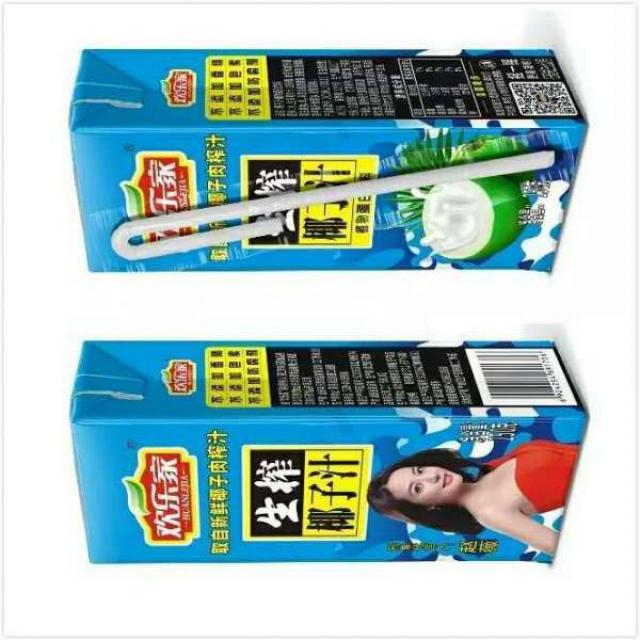non_white_jug: (65, 44, 594, 277), (65, 337, 591, 570)
